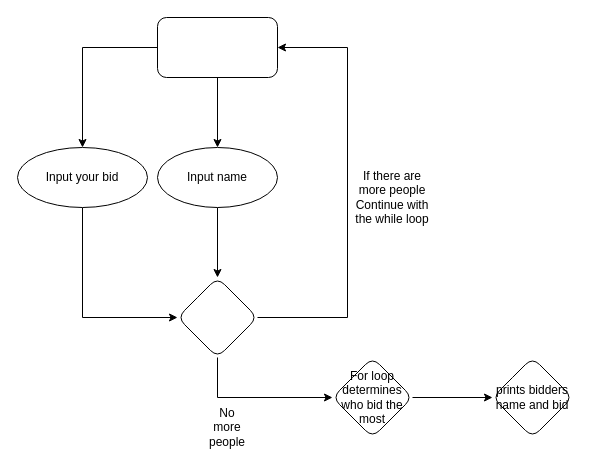
The diagram is 590 pixels wide and 466 high, and some of its shapes have lost their labels. The shapes that lost their labels are listed below. From the top down, each one's centre as x and y in pixels, then its label:
(217,47): Start
(217,317): adds info to dict
